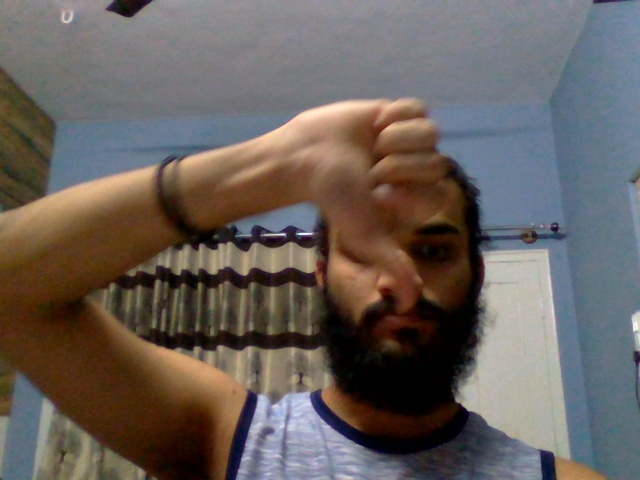ThumbsDown: (286, 96, 451, 308)
